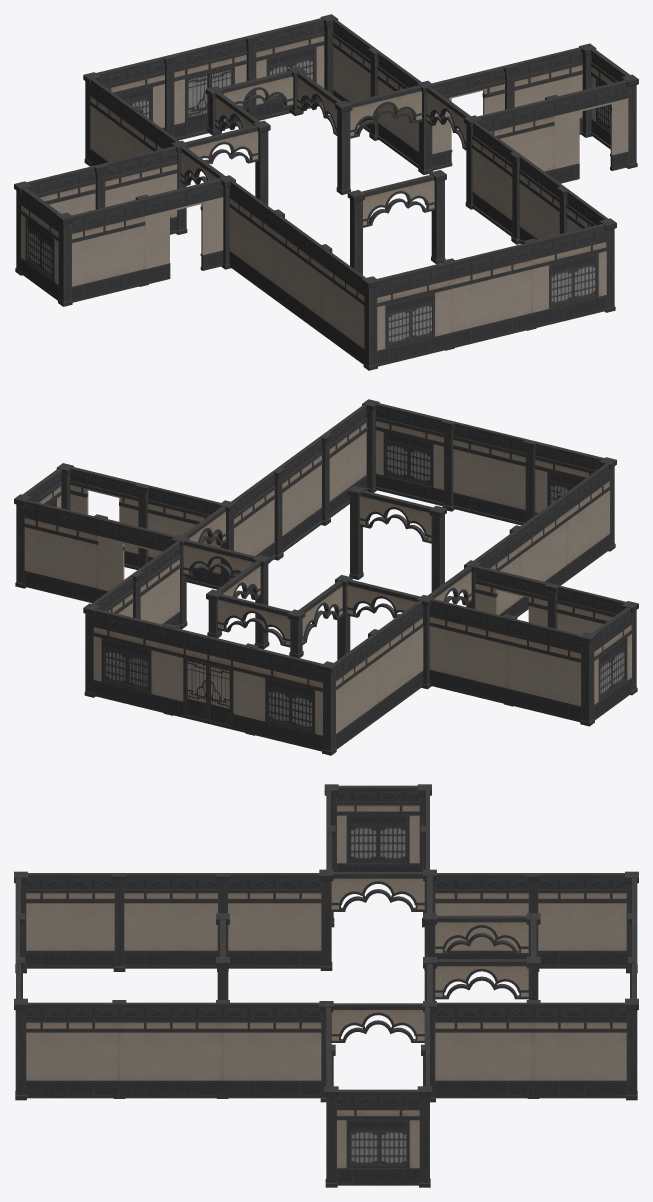
Rendered from Homeworld_Interior_Dq_Room_C_Wall_01_Vo.fbx.
The picture shows the model from 3 angles, top to bottom: view 1: azimuth 30°, elevation 25°; view 2: azimuth 150°, elevation 25°; view 3: azimuth 270°, elevation 25°; orthographic projection. The views are drawn at different scales.
Visible parts, largest first — view 1: Homeworld_Interior_Dq_Room_Wall_01_Vo (×16), Homeworld_Interior_Dq_Room_Wall_02_Vo (×6), Homeworld_Interior_Dq_Room_Pillar_01_Vo (×16), Homeworld_Interior_Dq_Room_Wall_06_Vo (×3), Homeworld_Interior_Dq_Room_Wall_03_Vo (×8), Homeworld_Interior_Dq_Room_Wall_07_Vo, Homeworld_Interior_Dq_Room_C_Filling_01_Vo, Homeworld_Interior_Dq_Room_Pillar_02_Vo (×4); view 2: Homeworld_Interior_Dq_Room_Wall_01_Vo (×16), Homeworld_Interior_Dq_Room_Wall_02_Vo (×6), Homeworld_Interior_Dq_Room_Pillar_01_Vo (×14), Homeworld_Interior_Dq_Room_Wall_03_Vo (×8), Homeworld_Interior_Dq_Room_Wall_06_Vo (×3), Homeworld_Interior_Dq_Room_Wall_07_Vo, Homeworld_Interior_Dq_Room_Pillar_02_Vo (×5), Homeworld_Interior_Dq_Room_C_Filling_01_Vo, Homeworld_Interior_Dq_Room_Pillar_03_Vo (×2); view 3: Homeworld_Interior_Dq_Room_Wall_01_Vo (×10), Homeworld_Interior_Dq_Room_Wall_02_Vo (×2), Homeworld_Interior_Dq_Room_Wall_03_Vo (×4), Homeworld_Interior_Dq_Room_Pillar_01_Vo (×9), Homeworld_Interior_Dq_Room_C_Filling_01_Vo, Homeworld_Interior_Dq_Room_Pillar_02_Vo.
Boxes of the visible parts, <box> form: Homeworld_Interior_Dq_Room_Wall_01_Vo (×16): <box>26,19,608,364</box>; Homeworld_Interior_Dq_Room_Wall_02_Vo (×6): <box>21,18,629,366</box>; Homeworld_Interior_Dq_Room_Pillar_01_Vo (×16): <box>14,14,638,370</box>; Homeworld_Interior_Dq_Room_Wall_06_Vo (×3): <box>145,65,628,284</box>; Homeworld_Interior_Dq_Room_Wall_03_Vo (×8): <box>180,70,470,227</box>; Homeworld_Interior_Dq_Room_Wall_07_Vo: <box>167,35,249,140</box>; Homeworld_Interior_Dq_Room_C_Filling_01_Vo: <box>28,233,595,345</box>; Homeworld_Interior_Dq_Room_Pillar_02_Vo (×4): <box>163,34,521,244</box>; Homeworld_Interior_Dq_Room_Wall_01_Vo (×16): <box>24,404,625,749</box>; Homeworld_Interior_Dq_Room_Wall_02_Vo (×6): <box>23,403,631,751</box>; Homeworld_Interior_Dq_Room_Pillar_01_Vo (×14): <box>14,399,638,755</box>; Homeworld_Interior_Dq_Room_Wall_03_Vo (×8): <box>182,490,472,647</box>; Homeworld_Interior_Dq_Room_Wall_06_Vo (×3): <box>70,467,554,626</box>; Homeworld_Interior_Dq_Room_Wall_07_Vo: <box>167,627,249,733</box>; Homeworld_Interior_Dq_Room_Pillar_02_Vo (×5): <box>135,419,537,569</box>; Homeworld_Interior_Dq_Room_C_Filling_01_Vo: <box>105,652,624,727</box>; Homeworld_Interior_Dq_Room_Pillar_03_Vo (×2): <box>206,589,305,657</box>; Homeworld_Interior_Dq_Room_Wall_01_Vo (×10): <box>26,873,626,1098</box>; Homeworld_Interior_Dq_Room_Wall_02_Vo (×2): <box>337,785,419,1185</box>; Homeworld_Interior_Dq_Room_Wall_03_Vo (×4): <box>331,872,528,1042</box>; Homeworld_Interior_Dq_Room_Pillar_01_Vo (×9): <box>14,869,638,1187</box>; Homeworld_Interior_Dq_Room_C_Filling_01_Vo: <box>350,1131,406,1164</box>; Homeworld_Interior_Dq_Room_Pillar_02_Vo: <box>112,873,126,971</box>.
Size of what is drawn, in the model's own units: 35.18 by 5.12 by 30.18.
